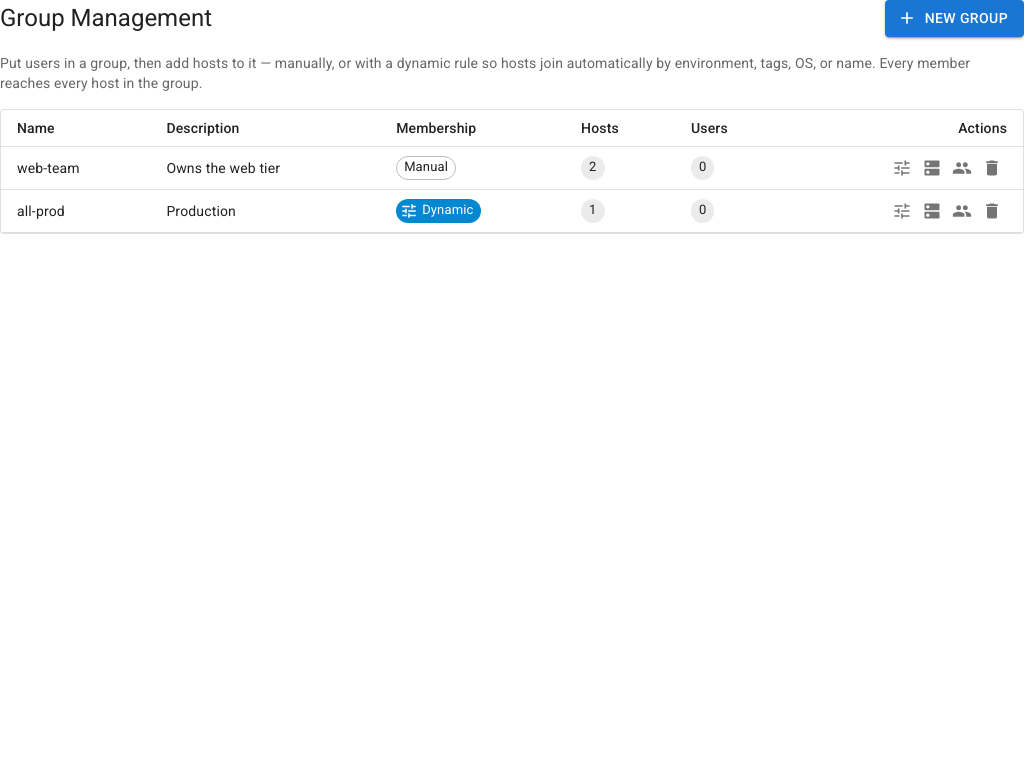
GroupsPage host membership › shows each group's host count and lists the members on open
The image size is (1024, 768).
Expected: the text "web-team" is shown, x1=1 y1=146 x2=150 y2=189
Click the button named "Manage hosts in web-team".
click(932, 168)  # box x1=917 y1=152 x2=947 y2=182
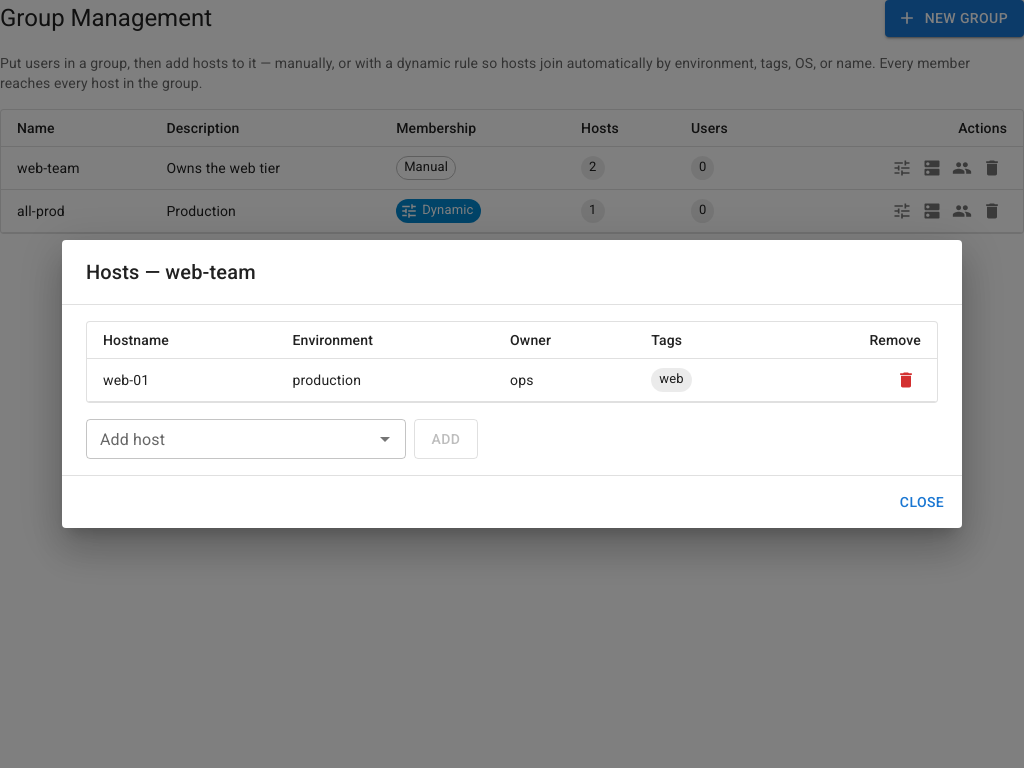
Expected: the heading "Hosts — web-team" is shown, x1=86 y1=260 x2=256 y2=284
Expected: the text "web-01" is shown, x1=87 y1=358 x2=276 y2=401
